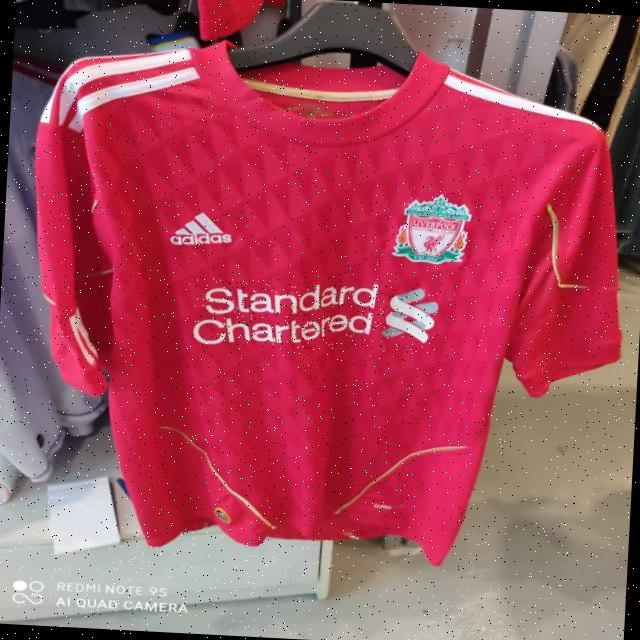Adidas: (163, 205, 232, 247)
Standard Chartered: (193, 276, 438, 356)
